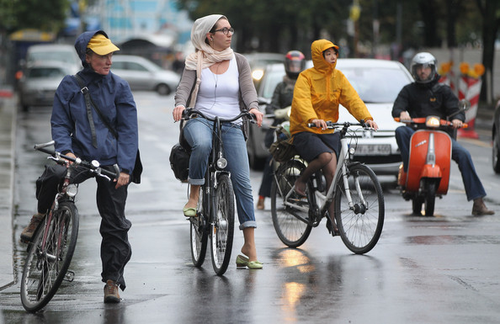bikerider: (12, 29, 144, 319), (252, 32, 387, 259), (167, 12, 274, 294)
